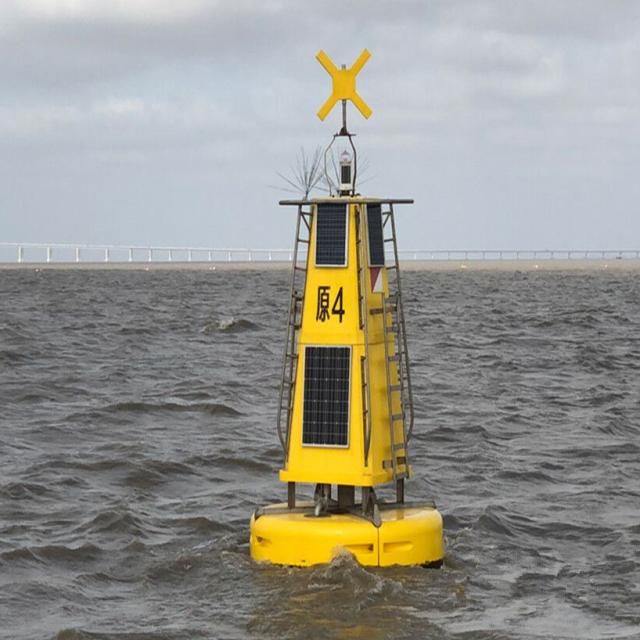buoy: (250, 44, 450, 572)
